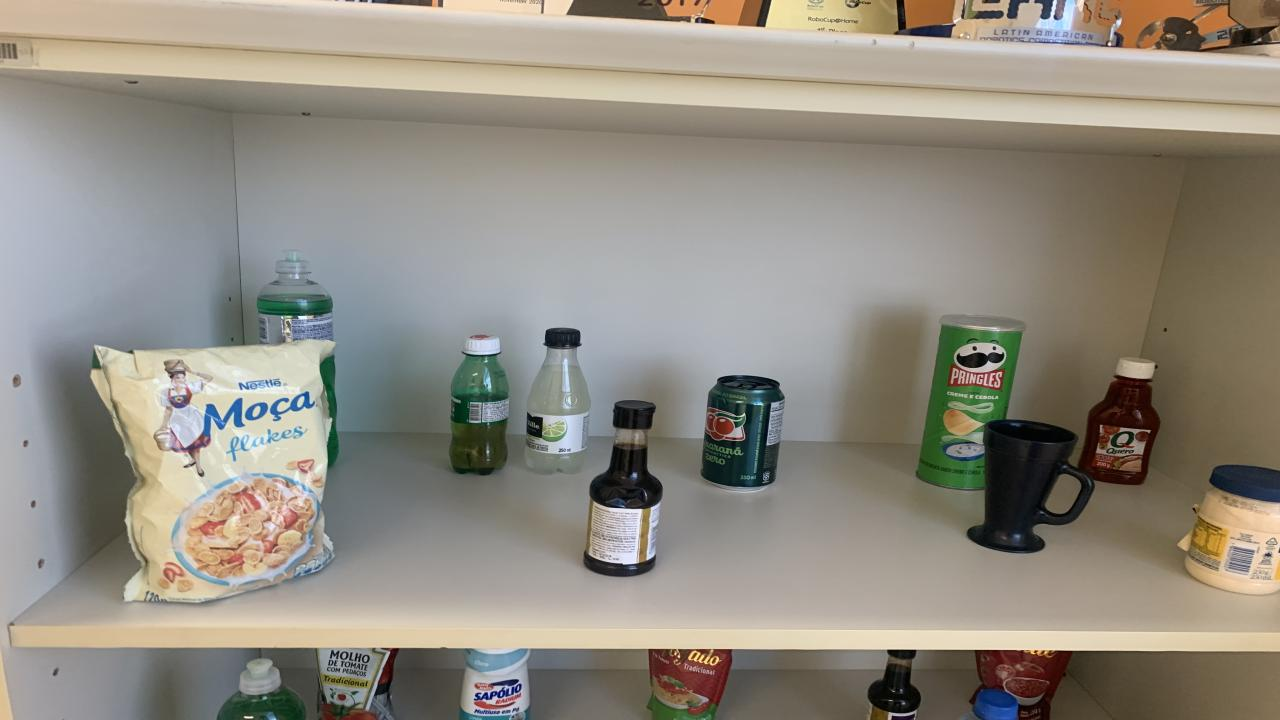Cleaner-Cleanup_Items: (460, 649, 530, 720)
Detergent-Cleanup_Items: (258, 261, 332, 345), (218, 658, 305, 720)
English_Sauce-Pantry_Items: (582, 401, 662, 576), (868, 649, 920, 720)
Flakes-Snacks: (92, 339, 335, 602)
Guarana-Drinks: (450, 334, 510, 474)
Guarana_Can-Drinks: (700, 375, 785, 491)
Ketchup-Pantry_Items: (1080, 356, 1160, 484)
Mayonnaise-Pantry_Items: (1178, 465, 1280, 594)
Pringles-Snacks: (915, 315, 1025, 489)
Soda-Drinks: (525, 328, 590, 474)
Tomato_Sauce-Pantry_Items: (975, 651, 1072, 720), (648, 649, 732, 720), (318, 649, 398, 720)
Water_Bottle-Drinks: (972, 688, 1018, 720)
